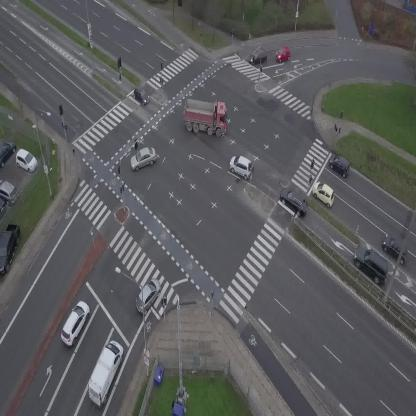car: (346, 241, 397, 288), (57, 298, 95, 348), (130, 275, 166, 316), (275, 183, 313, 219), (377, 233, 414, 266), (308, 178, 340, 209), (126, 144, 159, 172), (226, 152, 257, 180), (325, 151, 354, 178), (130, 85, 152, 107), (247, 48, 269, 65), (273, 45, 292, 63)
lorry: (82, 337, 128, 409), (181, 97, 230, 138)
